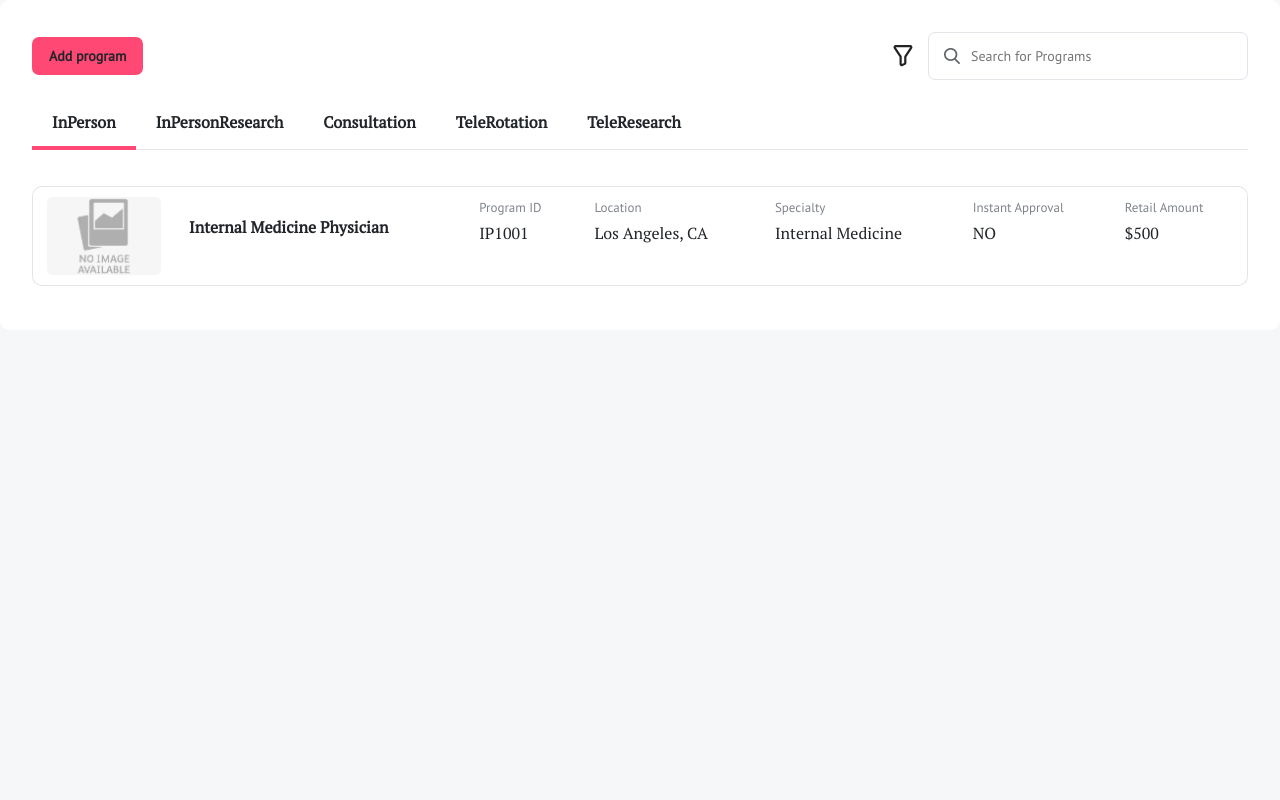
Test: ProgramsPage › deletes a program after confirmation
expect the text "Program ID" is shown: met, box x1=479 y1=199 x2=542 y2=216
Click the button "Internal Medicine" at (640, 236), box x1=32 y1=186 x2=1248 y2=286
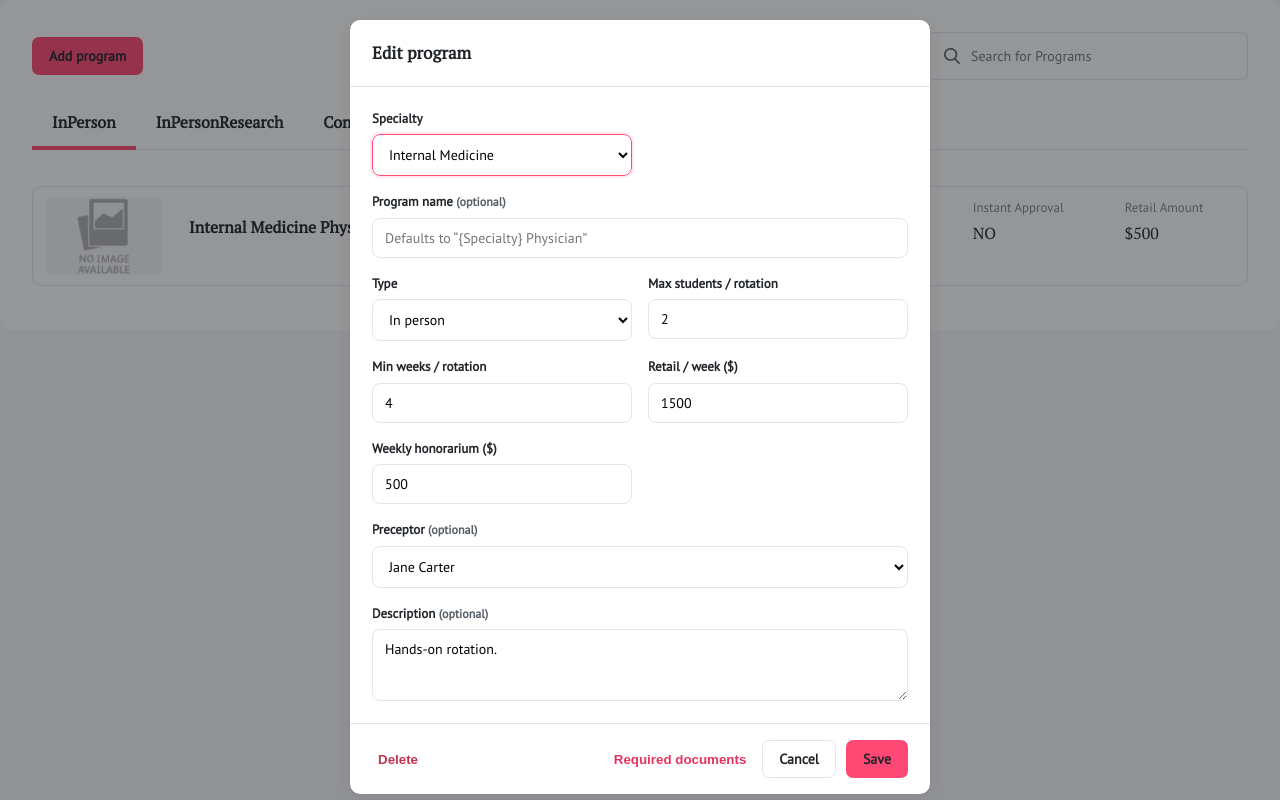
Click the button "Delete" at (398, 759), box x1=372 y1=740 x2=424 y2=778
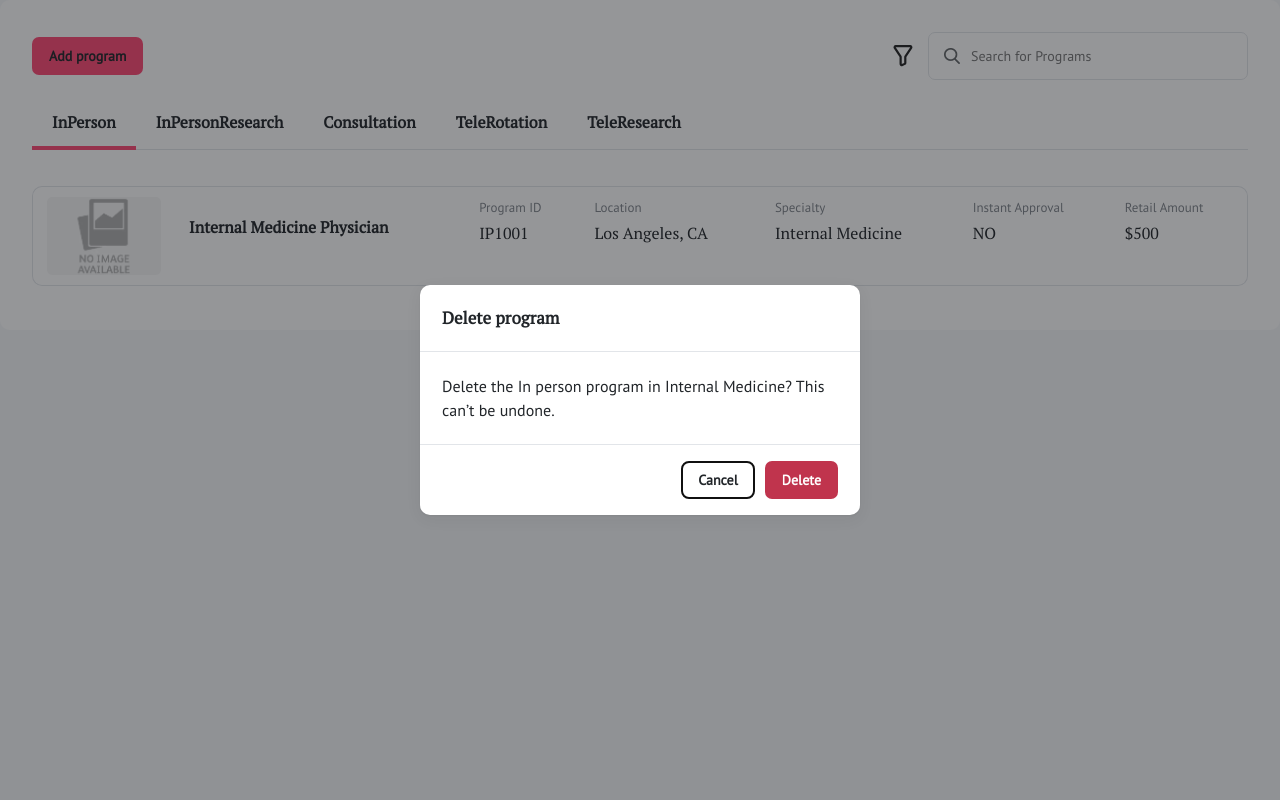
// The edit modal's Delete hands off to the confirm dialog.
Click the button "Delete" at (801, 480), box x1=765 y1=461 x2=838 y2=499
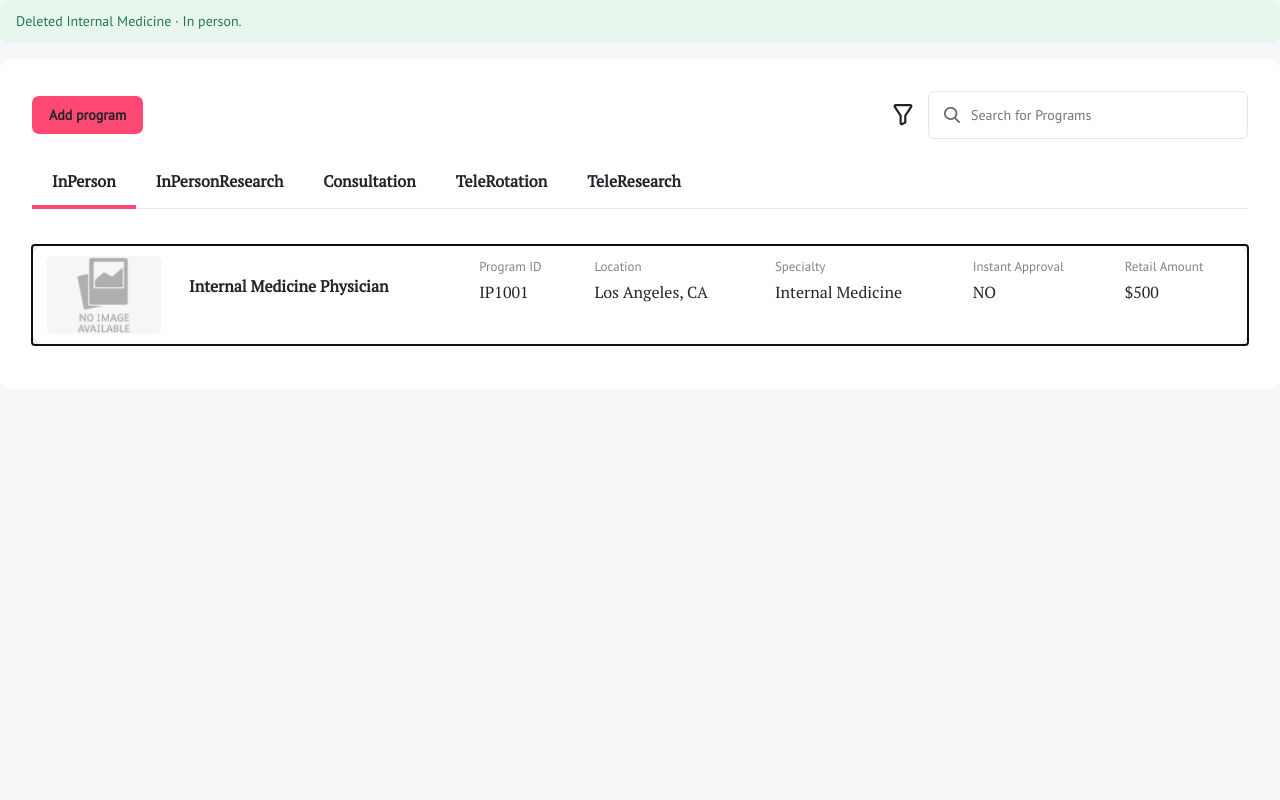
expect the text "Deleted Internal Medicine · In person." is shown: met, box x1=0 y1=0 x2=1279 y2=43
